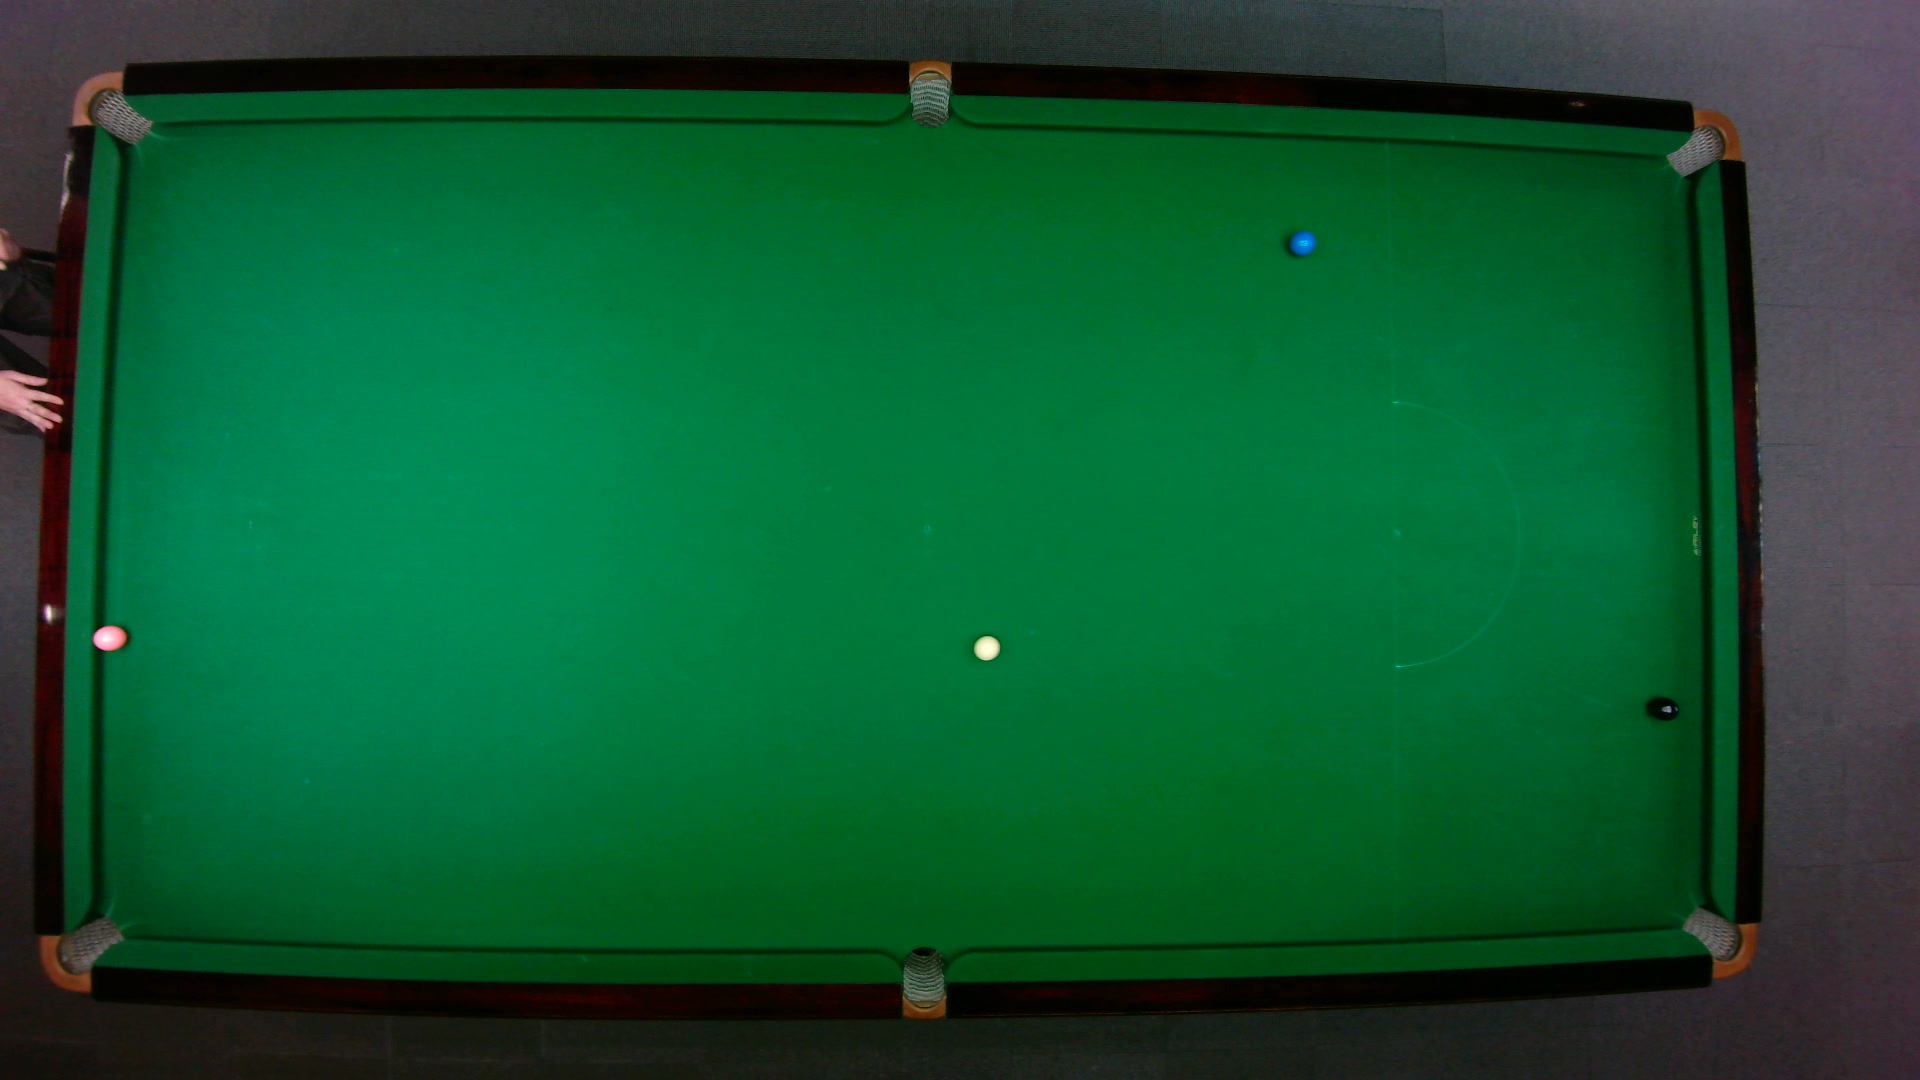bag: (38, 914, 125, 992), (69, 69, 153, 145), (1677, 905, 1756, 978), (1663, 108, 1741, 177), (901, 944, 944, 1021), (909, 57, 949, 128)
black: (1650, 695, 1679, 720)
blue: (1287, 228, 1316, 257)
pink: (88, 622, 128, 651)
white: (971, 633, 1001, 661)
zone: (1391, 400, 1520, 669)
